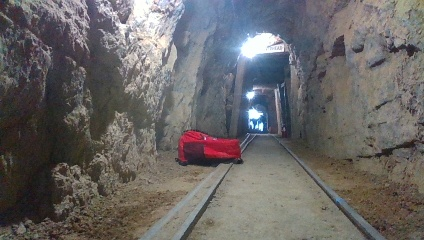backpack: (173, 128, 242, 166)
fire_extinguisher: (279, 122, 289, 139)
